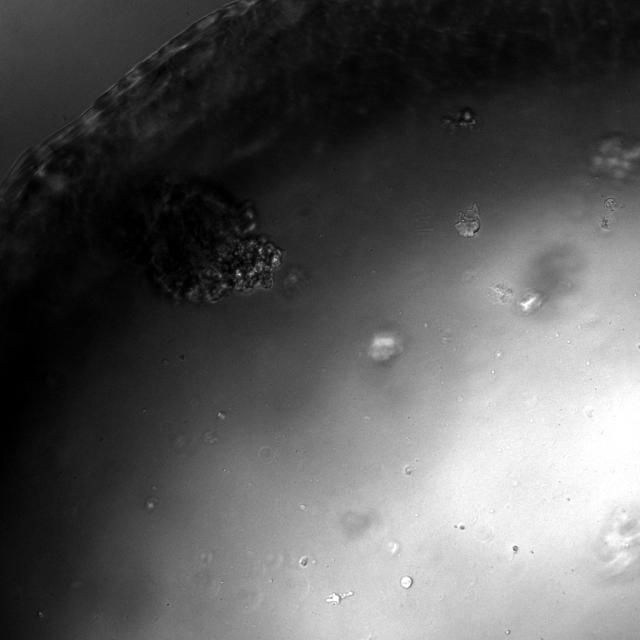organoid: (136, 181, 283, 303)
